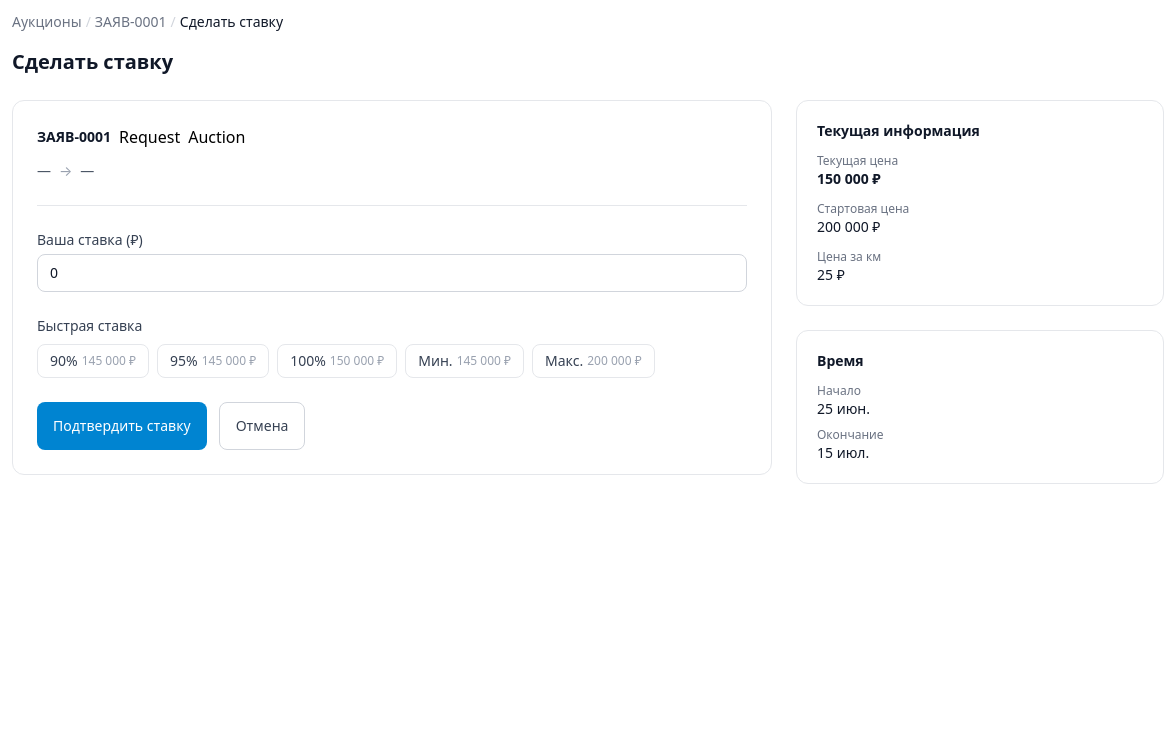
Test: PlaceBetPage integration › shows validation error for out-of-range price
The width and height of the screenshot is (1164, 732).
Check: the heading "Сделать ставку" is shown, box [12,48,173,75]
Replace the text in the number field labelled "Ваша ставка (₽)" with "50000" at [392, 273], box [37,254,747,292]
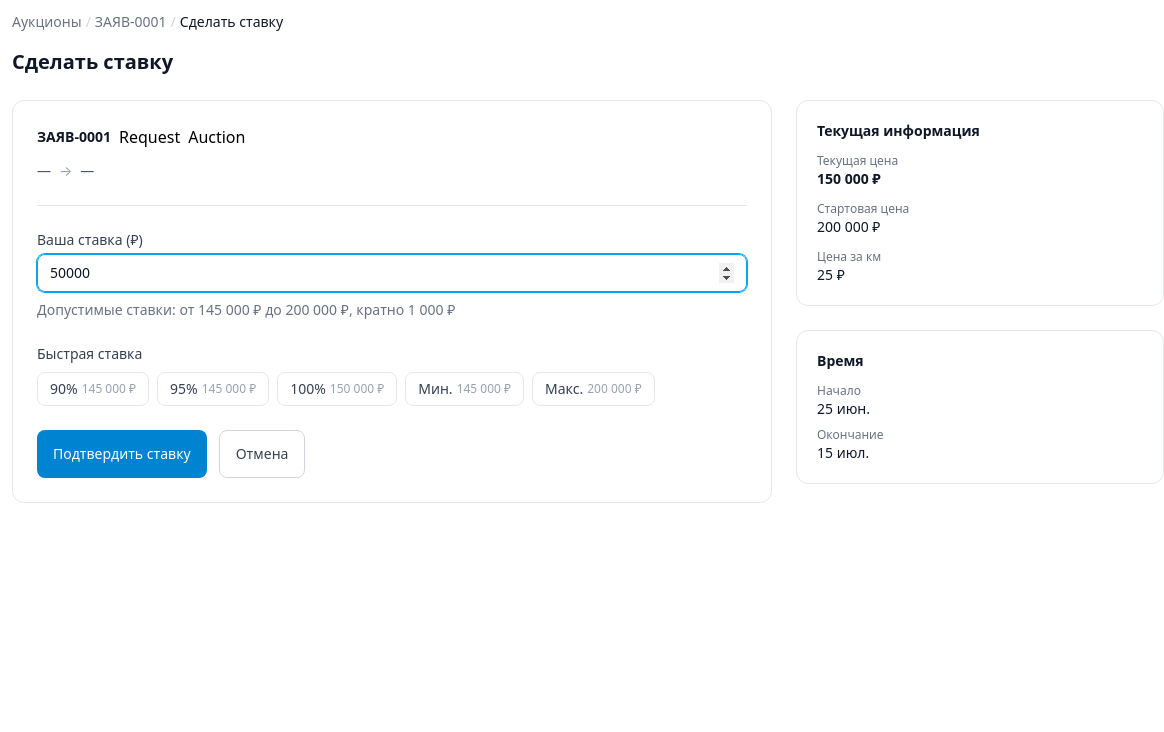
Click the button "Подтвердить ставку" at [122, 454], box [37,430,207,478]
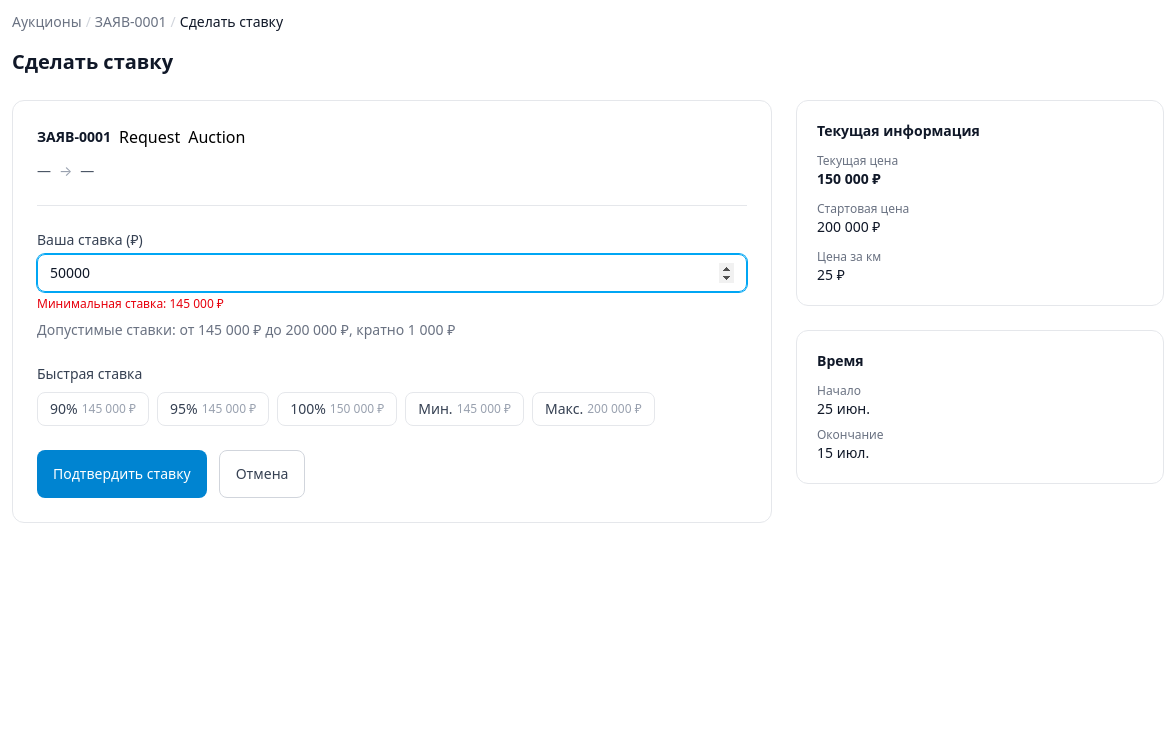
Check: the text "Минимальная ставка: 145 000 ₽" is shown, box [37,295,224,312]
